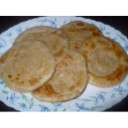parota: (35, 48, 88, 103), (1, 42, 55, 92), (82, 36, 128, 87)
